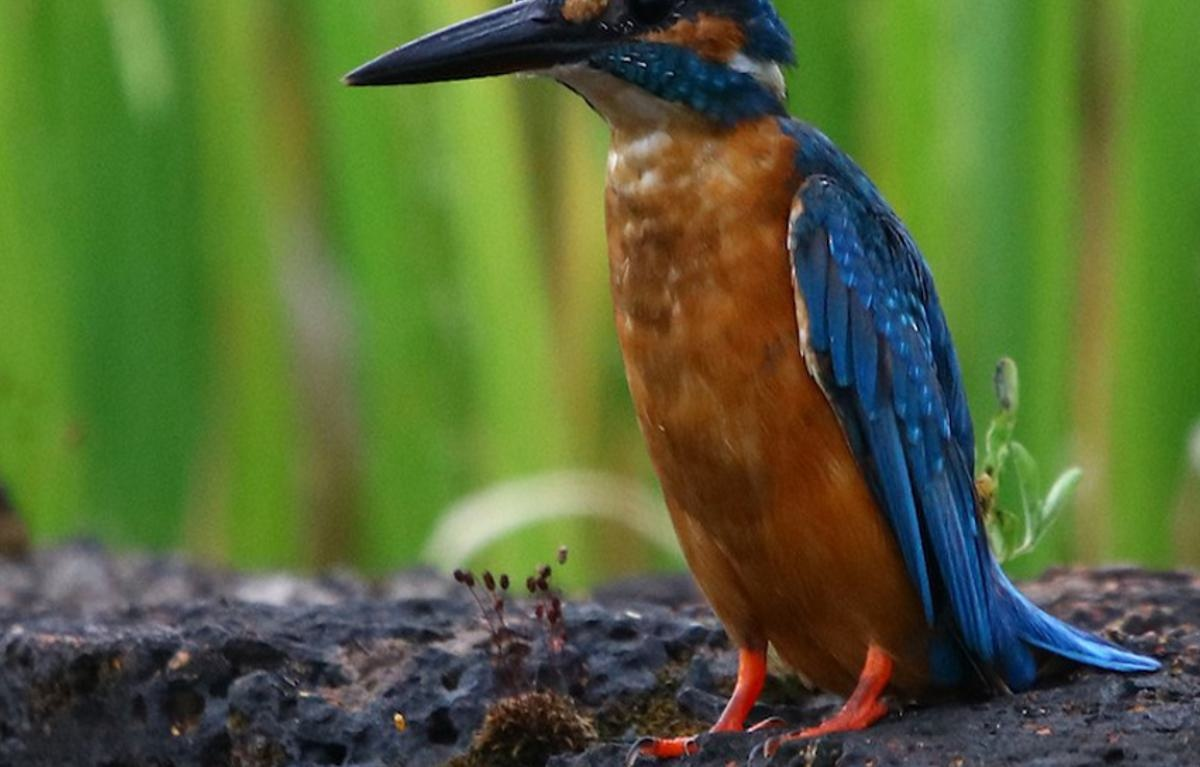kingfisher: (349, 3, 1128, 733)
